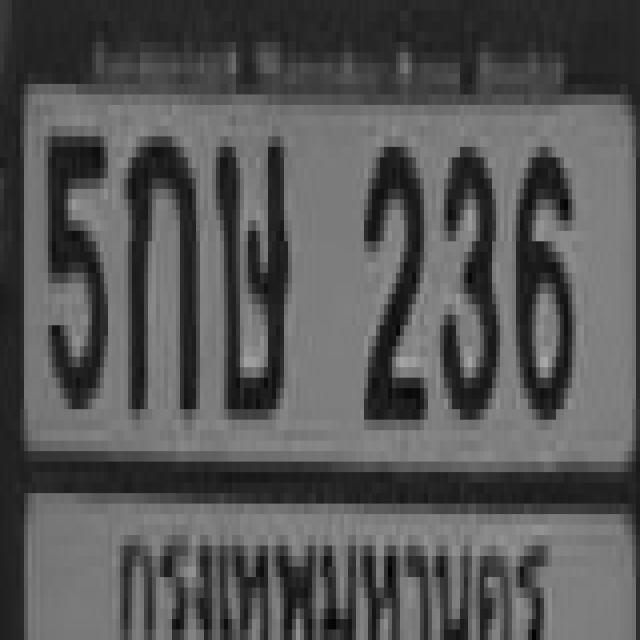10GorGai: (124, 126, 196, 409)
2: (360, 136, 420, 410)
3: (436, 136, 496, 410)
48SorRueSi: (212, 126, 284, 409)
5: (44, 126, 104, 399)
6: (512, 136, 568, 410)
Bangkok: (101, 488, 566, 640)
